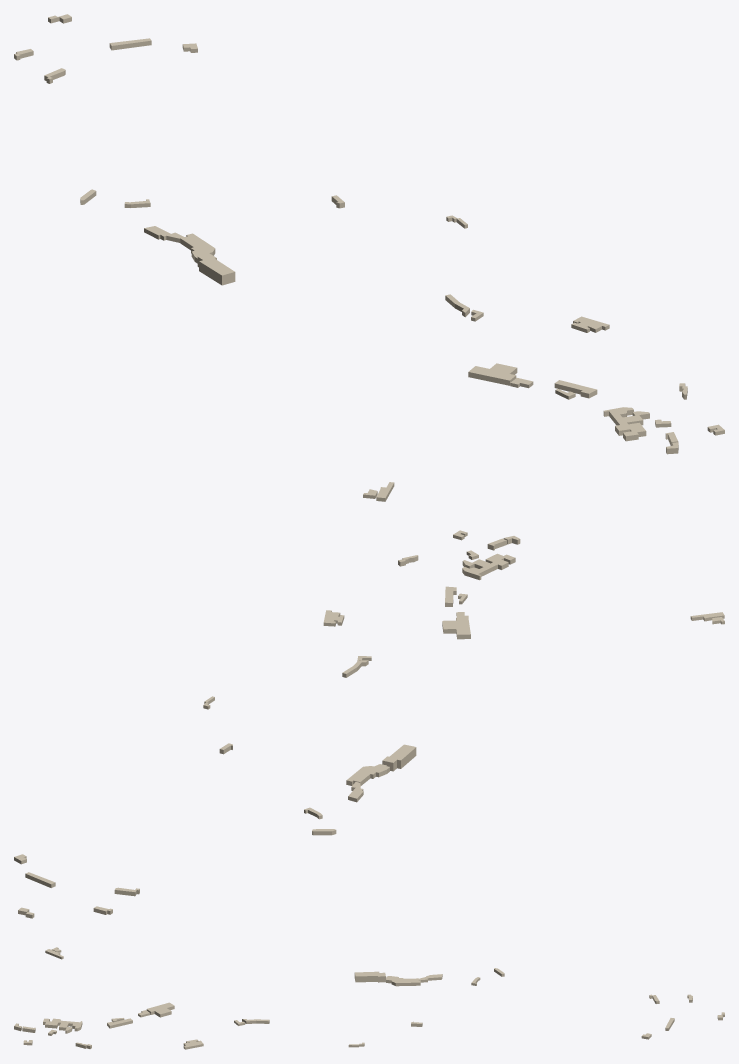
3 views of the same model, one above another, from view 1: azimuth 30°, elevation 25°; view 2: azimuth 150°, elevation 25°; view 3: azimuth 270°, elevation 25° (orthographic). The views are drawn at different scales.
Size of the model in its own units: 686 by 25.56 by 1994.
